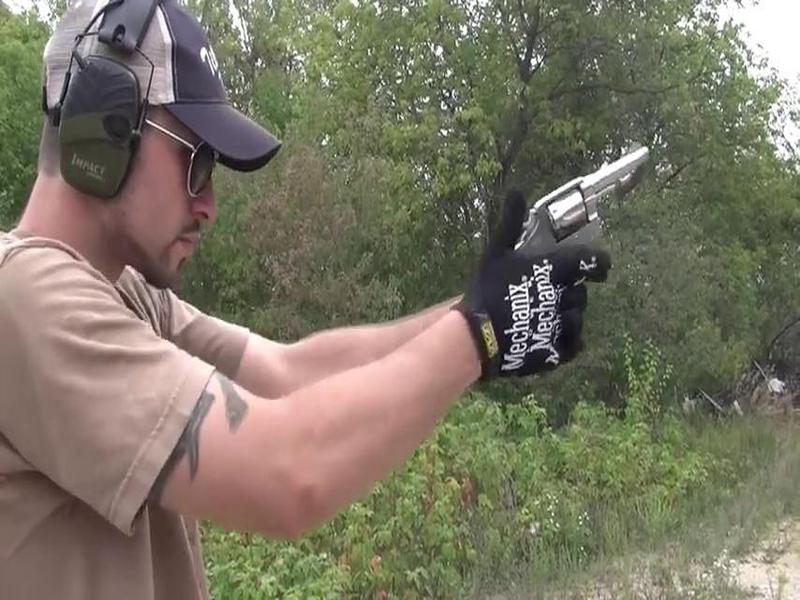Revolver: (512, 131, 657, 294)
